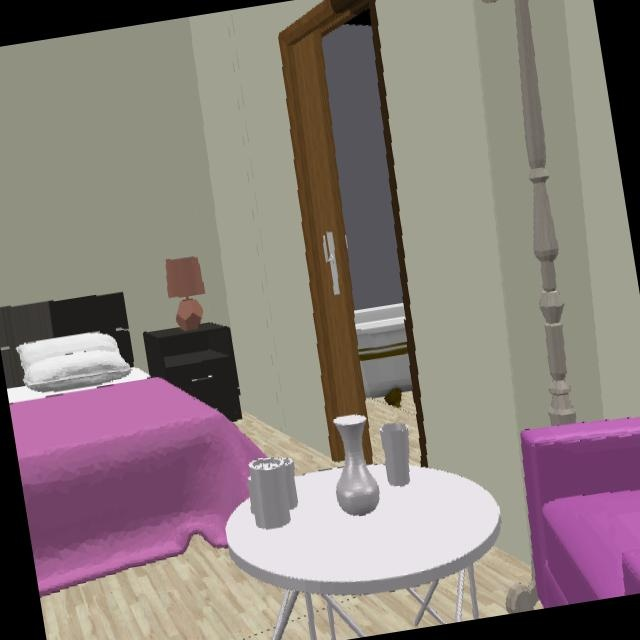bathtube: (356, 304, 414, 406)
bed: (8, 377, 262, 594)
nighttable: (144, 323, 241, 421)
pillow: (16, 334, 131, 392)
sofa: (521, 419, 640, 606)
table: (227, 465, 501, 640)
